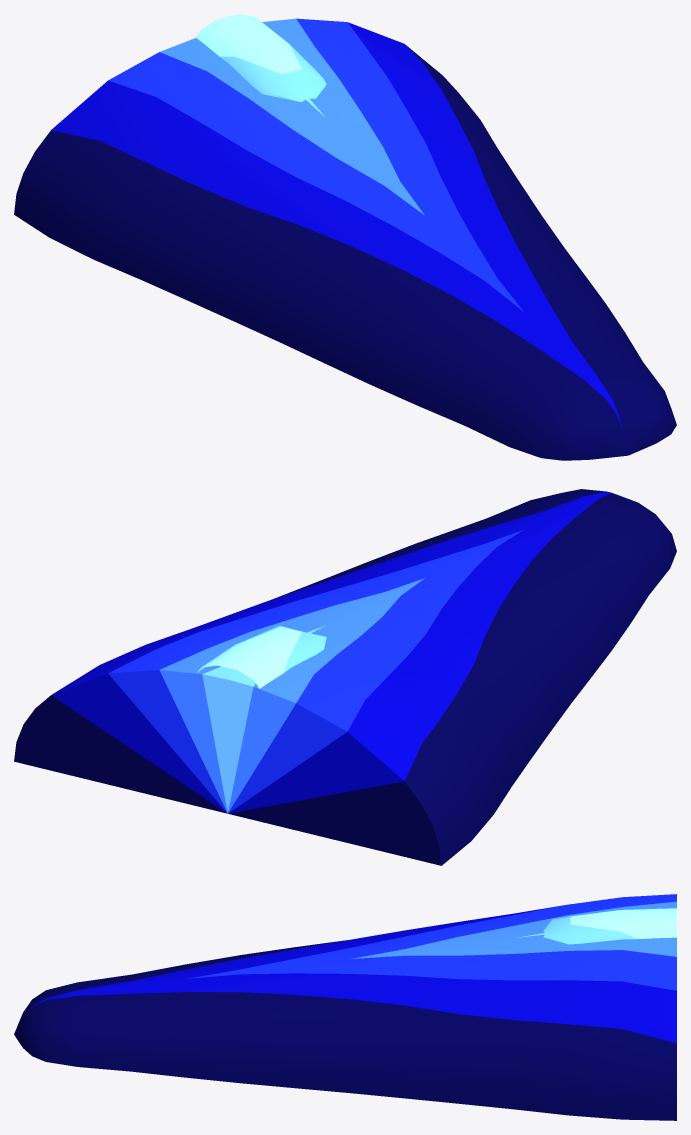
File: shot_zica_135.glb
3 views of the same model, one above another, from view 1: azimuth 30°, elevation 25°; view 2: azimuth 150°, elevation 25°; view 3: azimuth 270°, elevation 25° (orthographic). The views are drawn at different scales.
Visible parts, largest first — view 1: shot_zica_135_rod, shot_zica_135_core; view 2: shot_zica_135_rod, shot_zica_135_core; view 3: shot_zica_135_rod, shot_zica_135_core.
Part boxes in pixels (x1,y1,x2,y2): shot_zica_135_rod: [14, 18, 676, 460]; shot_zica_135_core: [196, 14, 326, 101]; shot_zica_135_rod: [14, 489, 676, 865]; shot_zica_135_core: [197, 625, 326, 688]; shot_zica_135_rod: [14, 894, 676, 1120]; shot_zica_135_core: [543, 908, 676, 944].
Size of the model in its own units: 9 by 2.93 by 14.6.
